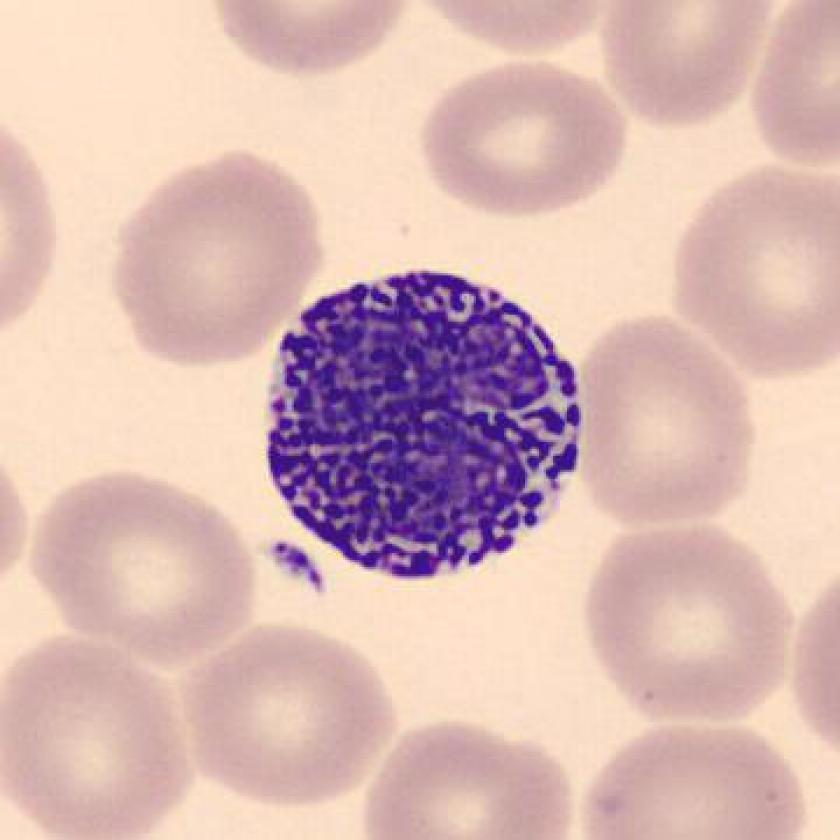basophil: (251, 258, 589, 589)
